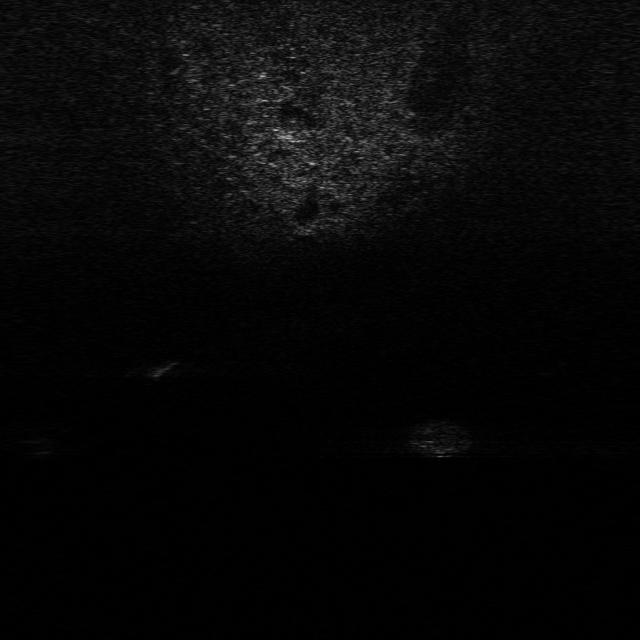ball: (26, 437, 60, 460)
circle cage: (410, 415, 480, 455)
cylinder: (147, 355, 184, 383)
